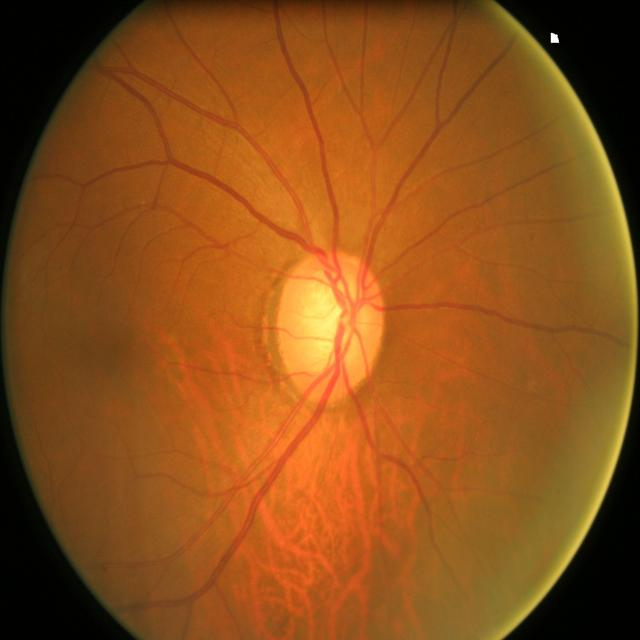OC: (292, 276, 361, 376)
OD: (278, 253, 388, 403)
